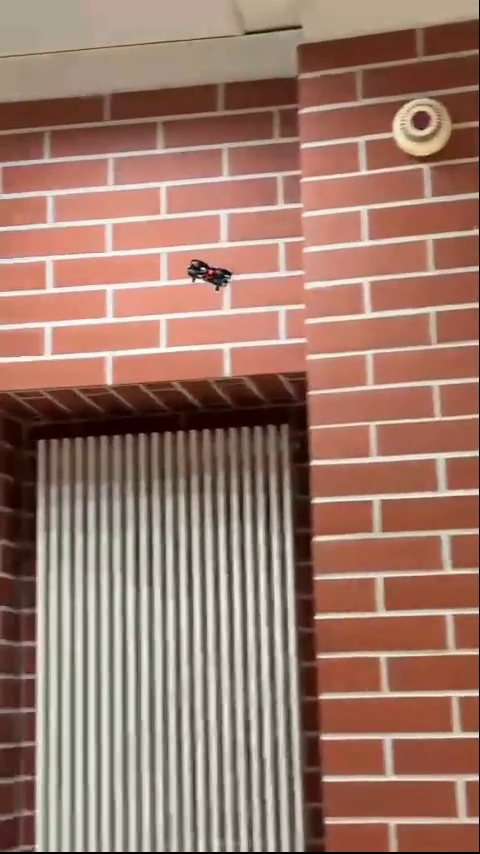drone: (186, 258, 232, 293)
